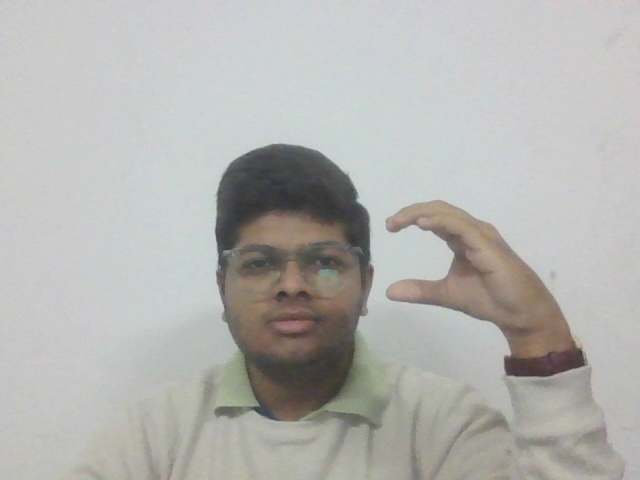C: (380, 193, 556, 335)
